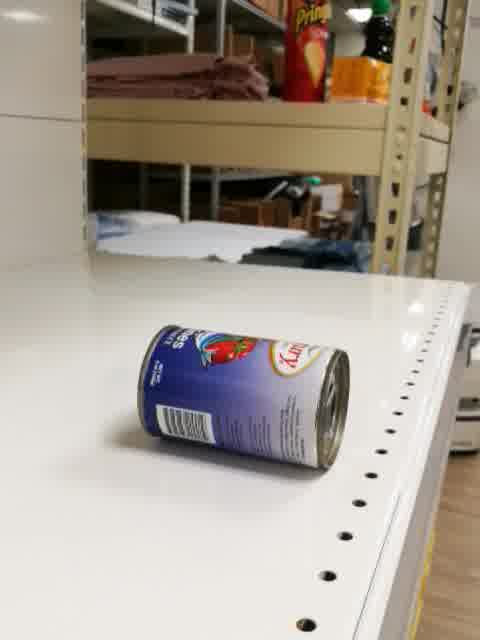sardine: (135, 324, 351, 473)
